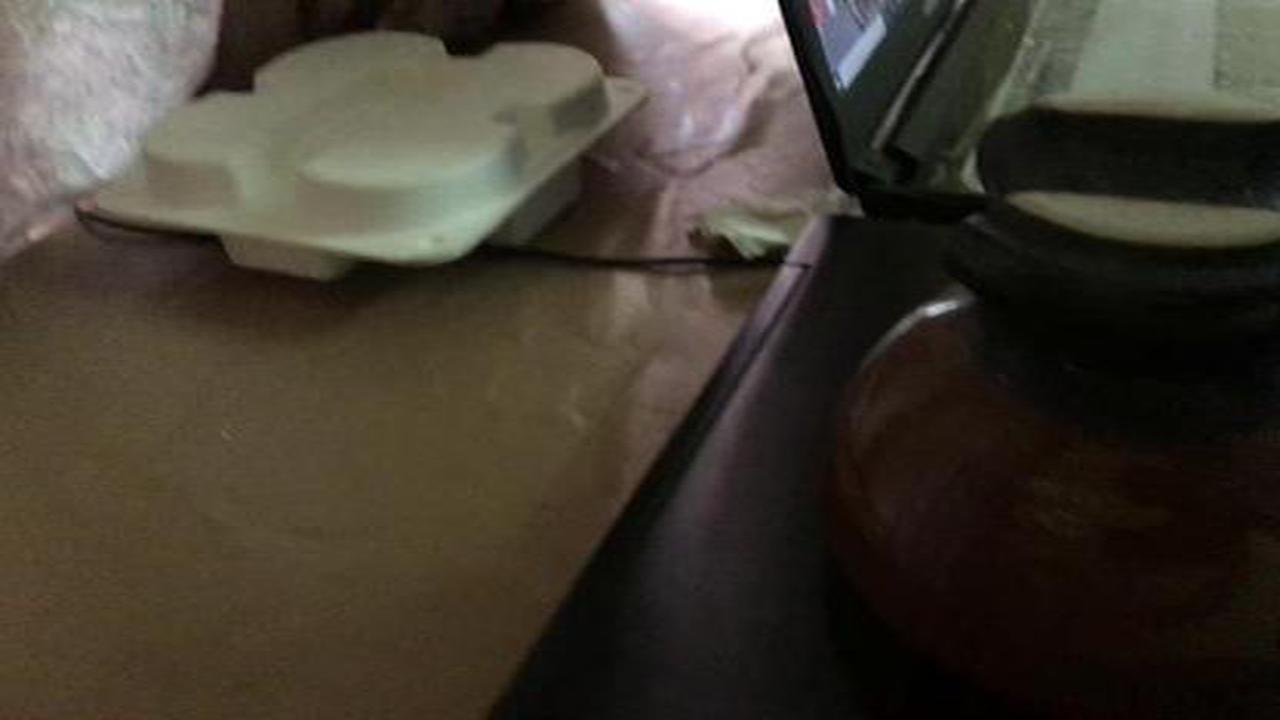insulator_pin: (819, 85, 1271, 677)
